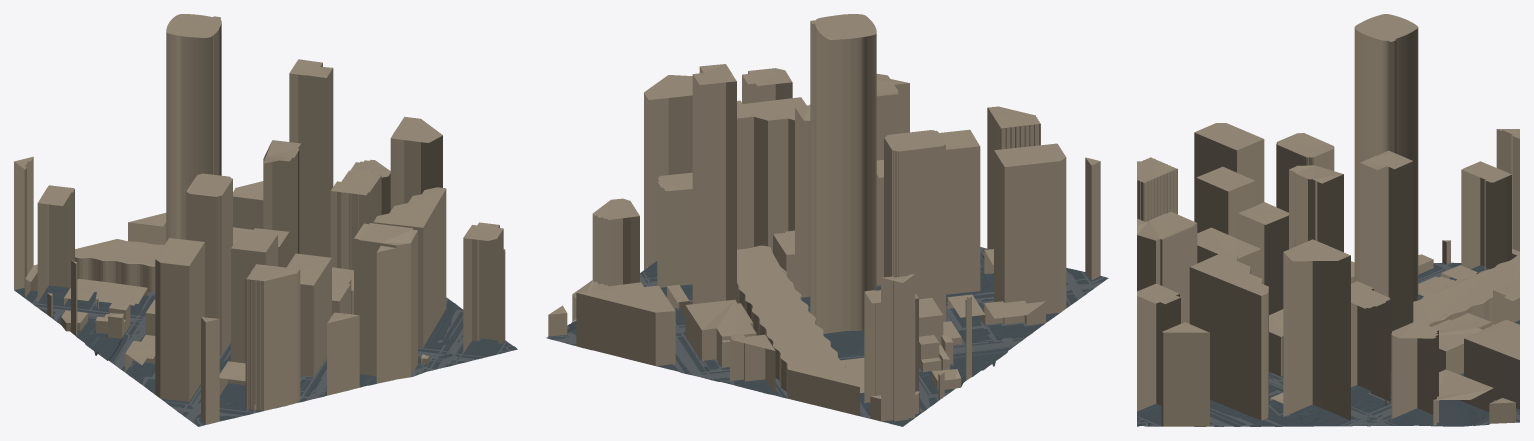
File: epsg26910-1440-10892.lod0.glb
The picture shows the model from 3 angles, left to right: view 1: azimuth 30°, elevation 25°; view 2: azimuth 150°, elevation 25°; view 3: azimuth 270°, elevation 25°; orthographic projection. The views are drawn at different scales.
Visible parts, largest first — view 1: epsg26910-1440-10892-lod0; view 2: epsg26910-1440-10892-lod0; view 3: epsg26910-1440-10892-lod0.
Boxes of the visible parts, x1,y1,x2,y2 form: epsg26910-1440-10892-lod0: (14,14,517,426); epsg26910-1440-10892-lod0: (546,14,1108,426); epsg26910-1440-10892-lod0: (1137,14,1519,426).
Size of the model in its own units: 384 by 333 by 384.
